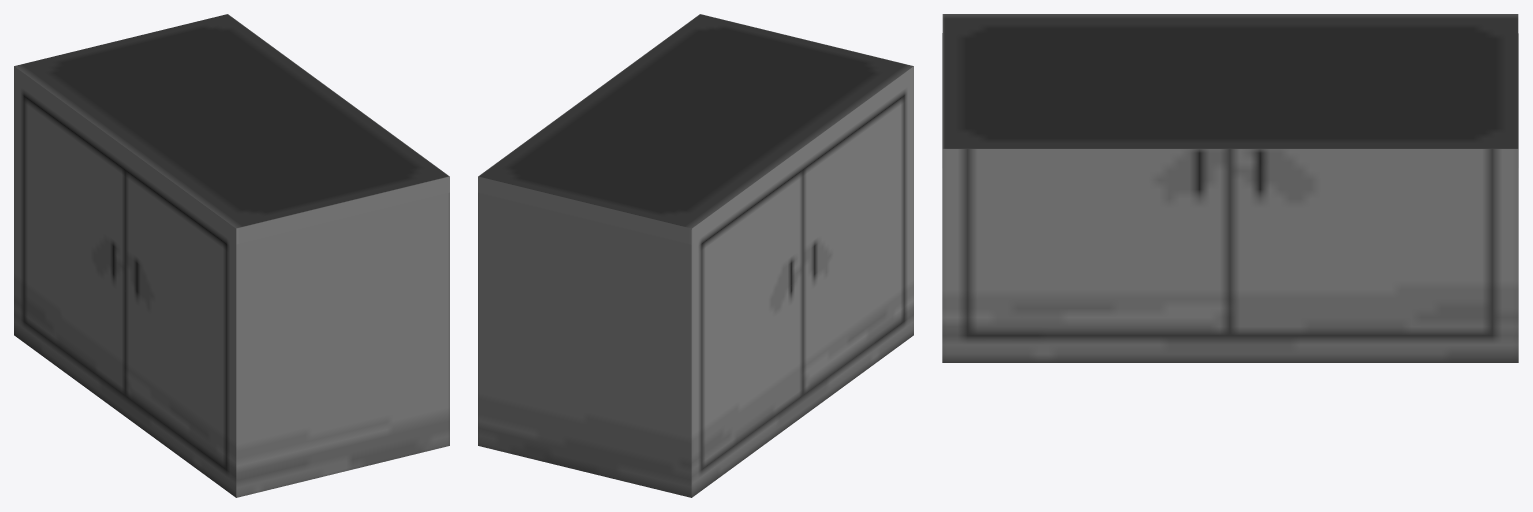
File: obj_labor_table.fbx
3 renders of one model, left to right at view 1: azimuth 30°, elevation 25°; view 2: azimuth 150°, elevation 25°; view 3: azimuth 270°, elevation 25°, orthographic. The views are drawn at different scales.
Parts seen in each view (by area): view 1: obj_labor_table; view 2: obj_labor_table; view 3: obj_labor_table.
Boxes of the visible parts, x1,y1,x2,y2 form: obj_labor_table: (14,14,449,497); obj_labor_table: (478,14,913,497); obj_labor_table: (942,14,1518,362).
Size of the model in its own units: 62.44 by 75.16 by 112.
